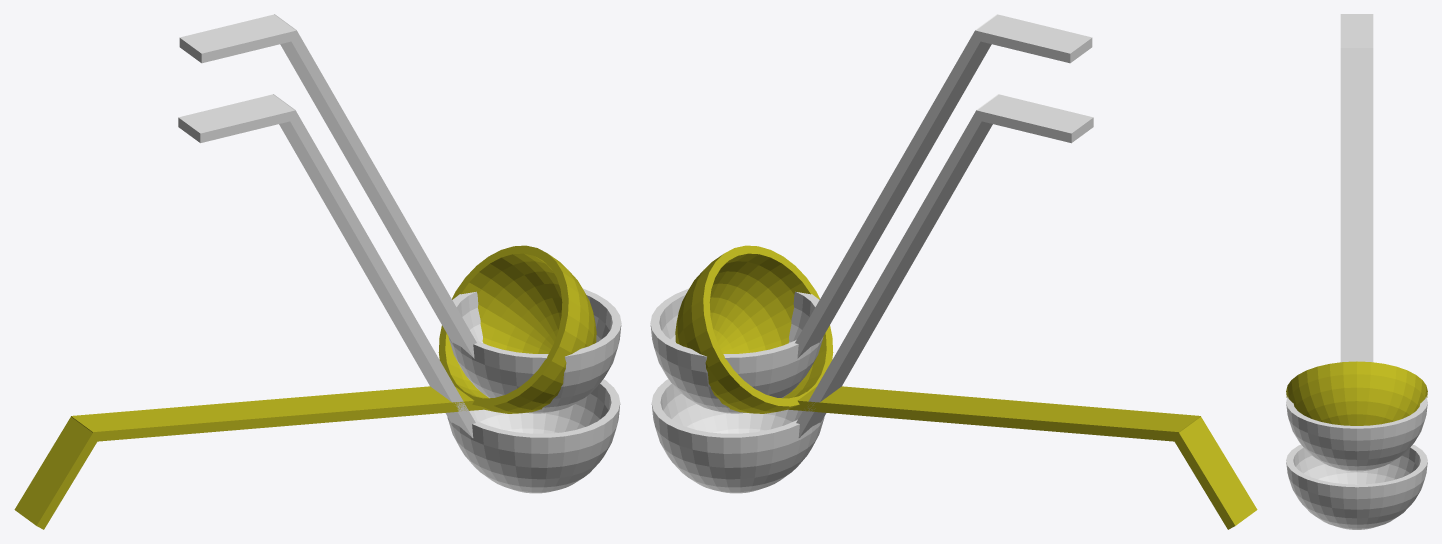
Rendered from spoon-yellow.dae.
3 views of the same model, side by side, from view 1: azimuth 30°, elevation 25°; view 2: azimuth 150°, elevation 25°; view 3: azimuth 270°, elevation 25° (orthographic). The views are drawn at different scales.
Parts seen in each view (by area): view 1: Spoon Yellow, Spoon Generic Upright, inner, Cube, Cube.001; view 2: Spoon Yellow, Spoon Generic Upright, inner, Cube, Cube.001; view 3: Spoon Generic Upright, inner, Spoon Yellow.
Boxes of the visible parts, x1,y1,x2,y2 form: Spoon Yellow: (14,245,596,529); Spoon Generic Upright: (179,14,621,413); inner: (447,379,620,493); Cube: (273,94,475,437); Cube.001: (178,94,294,143); Spoon Yellow: (675,245,1257,529); Spoon Generic Upright: (650,14,1092,413); inner: (651,379,824,493); Cube: (796,94,998,437); Cube.001: (975,94,1093,143); Spoon Generic Upright: (1286,14,1427,471); inner: (1286,444,1427,529); Spoon Yellow: (1286,361,1427,425).
Bounding box in the file's own units: 0.4011 × 0.1143 × 0.3446.
